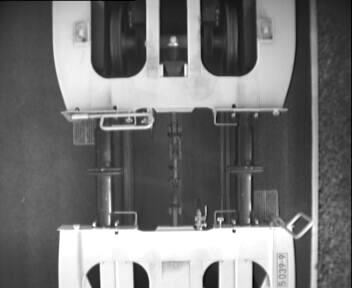Copy of Copy of wagon_scan: (84, 1, 263, 86)
